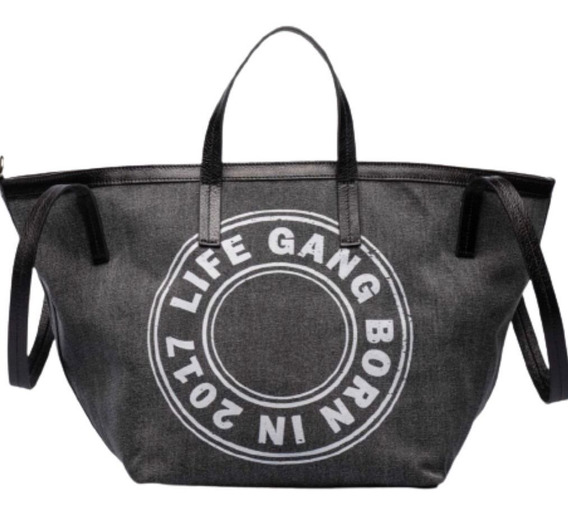cartera: (2, 25, 568, 491)
